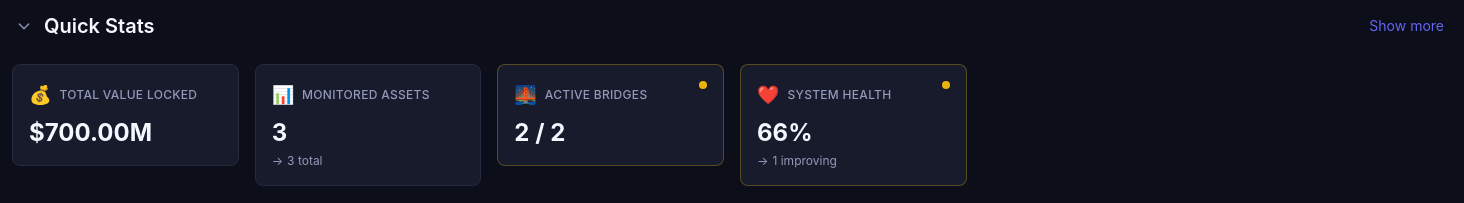
Test: QuickStatsWidget › expands to show all stats when Show more is clicked
Click the button "Show more" at {"x": 1407, "y": 26}, box [1361,12,1452,40]
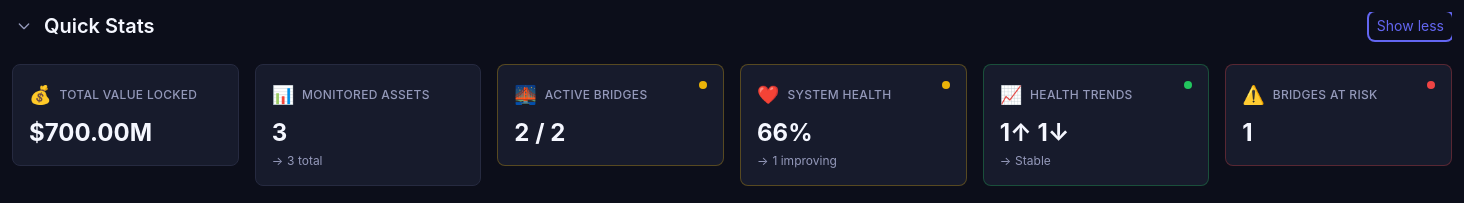
expect the number of list items is 6: met, box [12,64,239,186]; [255,64,481,186]; [497,64,724,186]; [740,64,967,186]; [983,64,1209,186]; [1225,64,1452,186]
expect the button "Show less" is shown: met, box [1369,12,1452,40]
